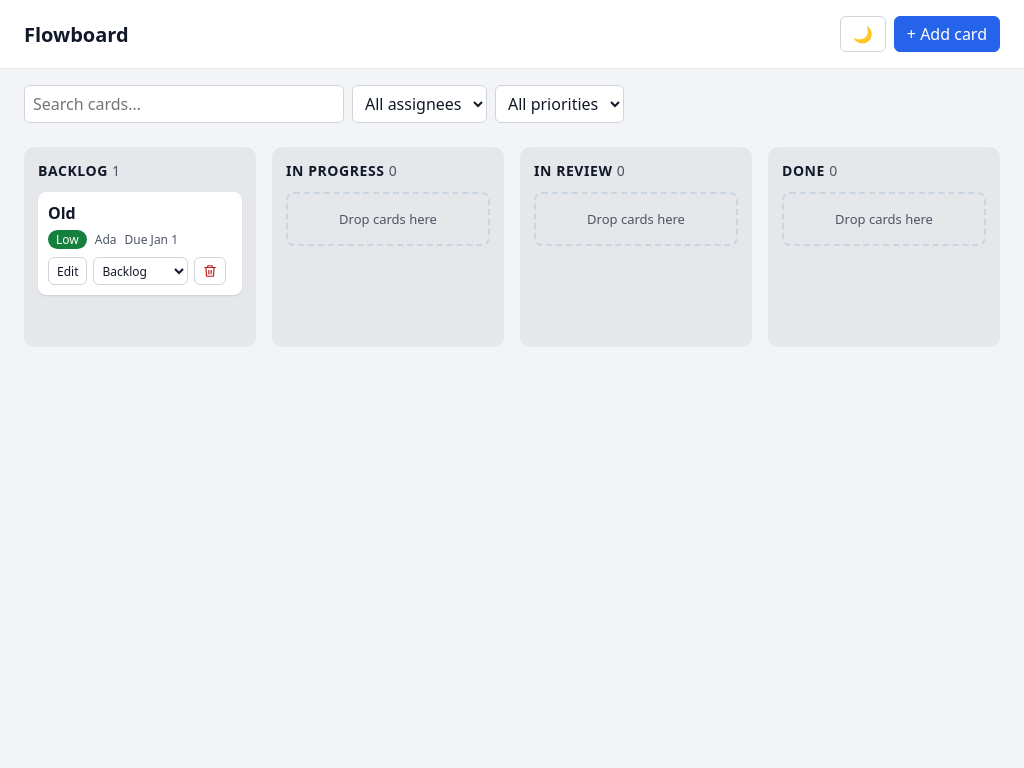
editing cards › opens prefilled, saves changes and sends them to the API
The image size is (1024, 768).
Expected: the element "Backlog" is shown, [24,147,256,347]
Step 1. Click the button "Edit" → (68,271), box [48,257,88,285]
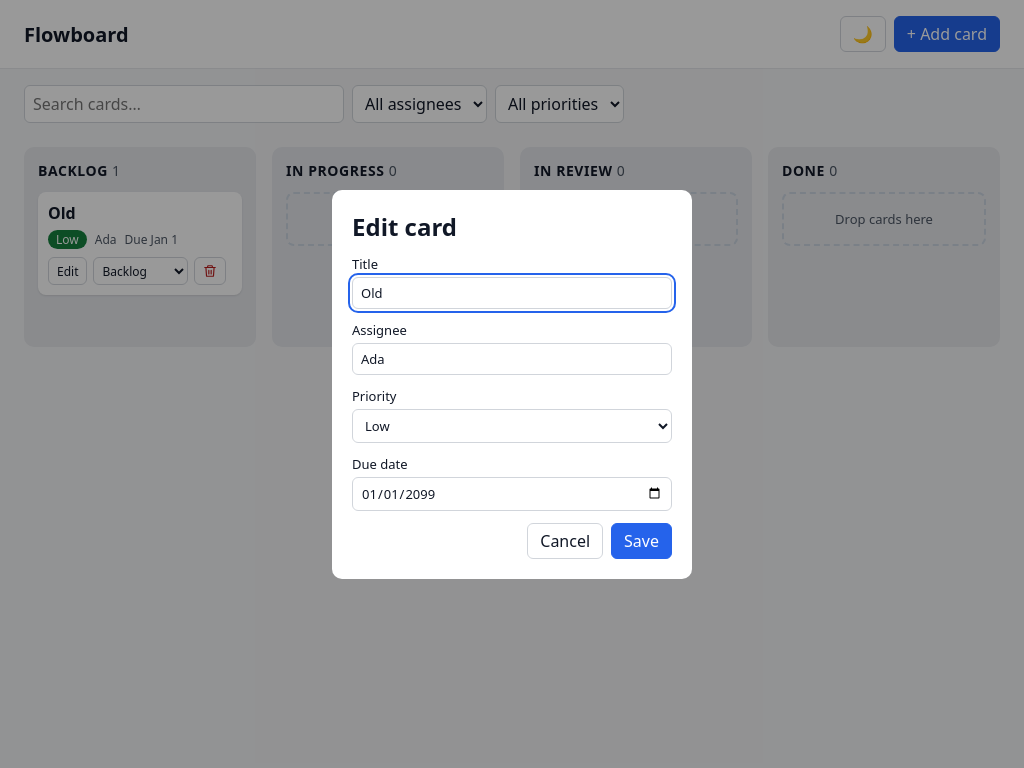
Expected: the field labelled "Title" holds "Old"
Expected: the dropdown labelled "Priority" shows "Low", [352,408,672,442]
Step 2. Replace the text in the field labelled "Title" with "New title" → (512,292), box [352,276,672,308]
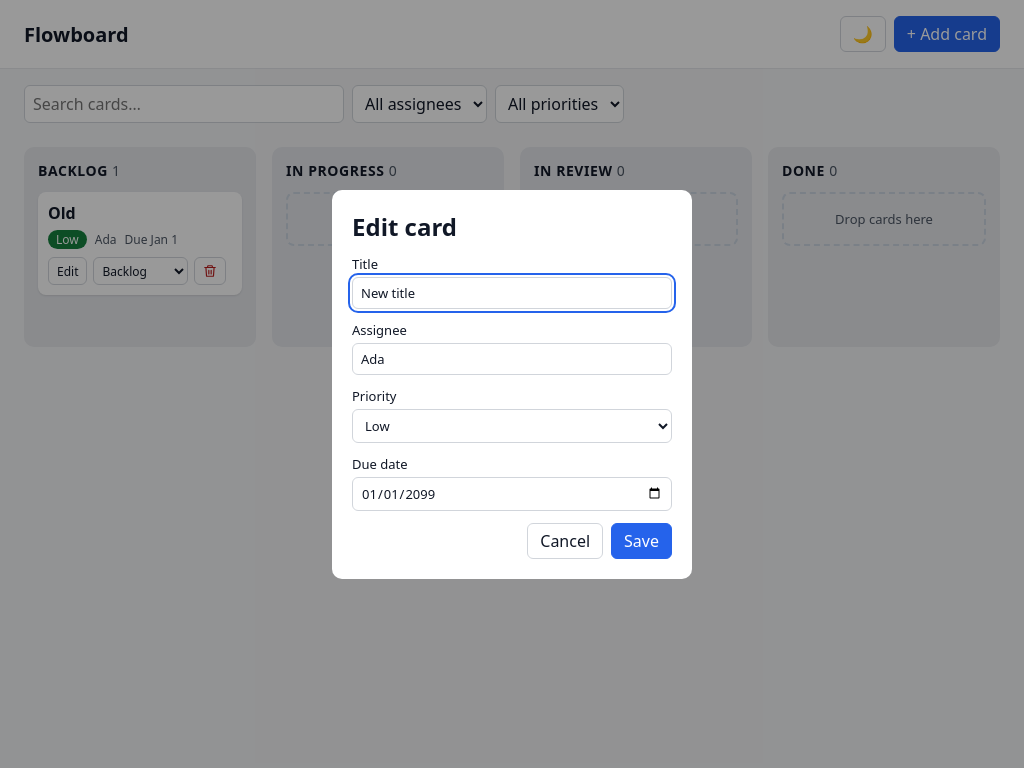
Step 3. Select "High" in the dropdown labelled "Priority" → (512,426), box [352,408,672,442]
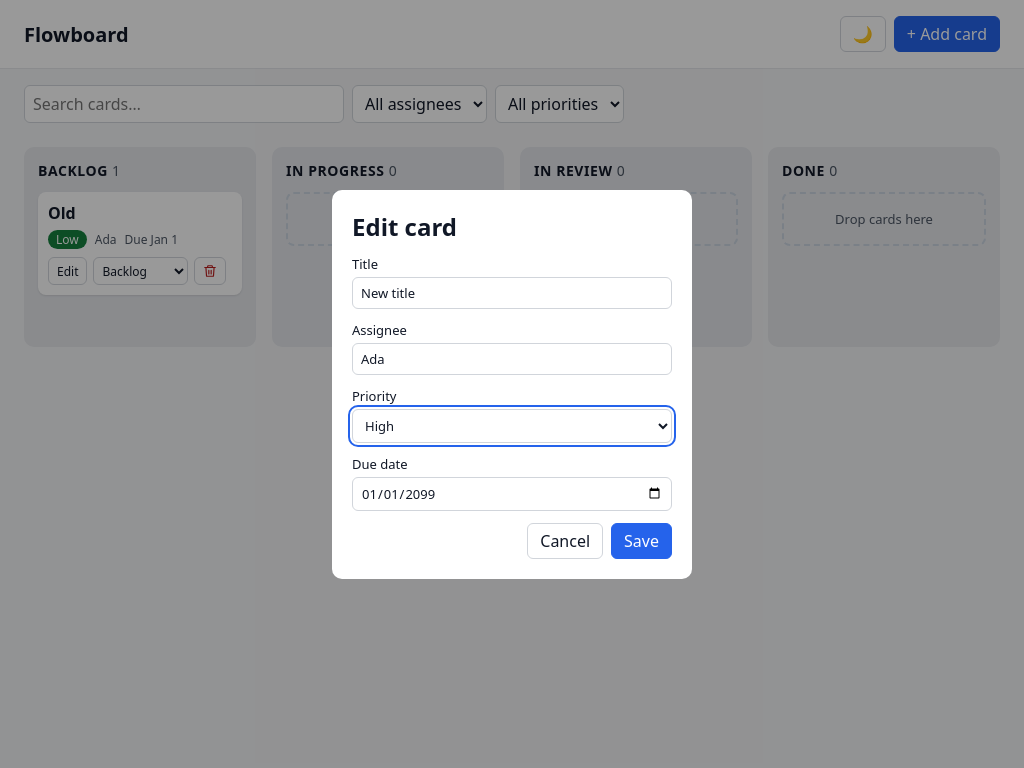
Step 4. Click the button "Save" → (642,540), box [611,522,672,558]
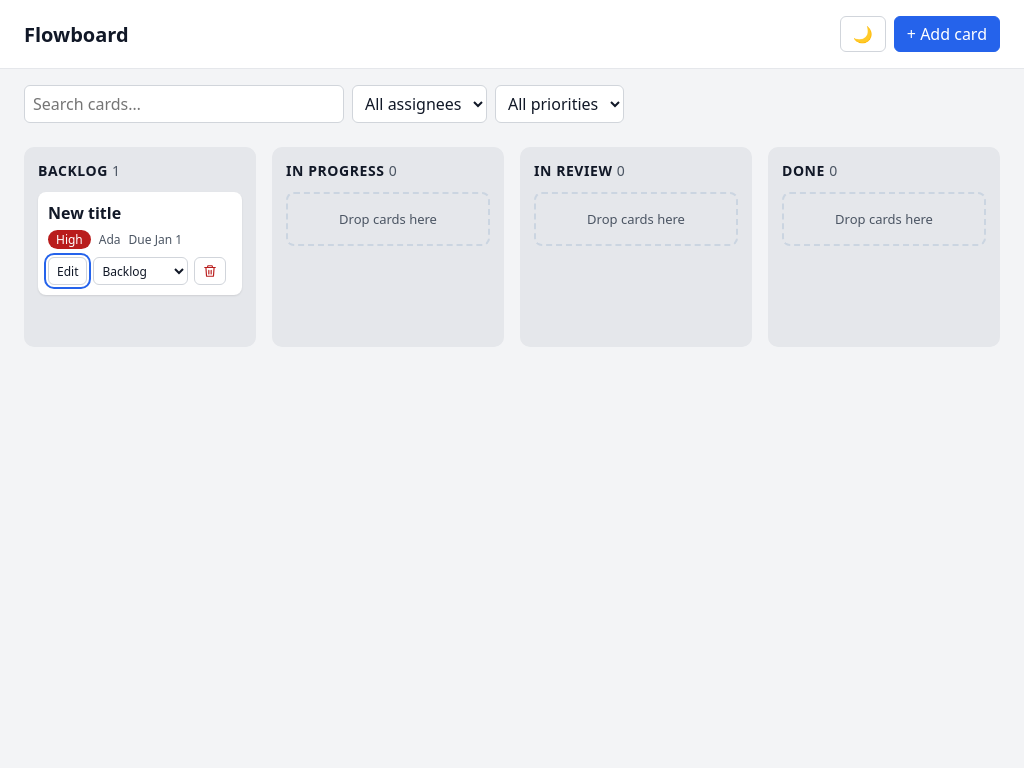
Expected: the heading "New title" is shown, [48,202,121,224]
Expected: the heading "Old" is gone
